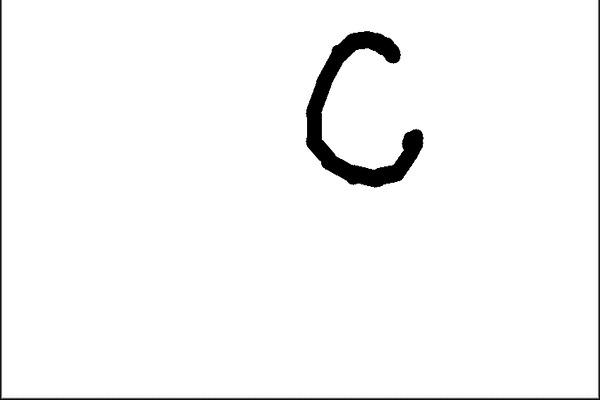C: (300, 27, 426, 190)
